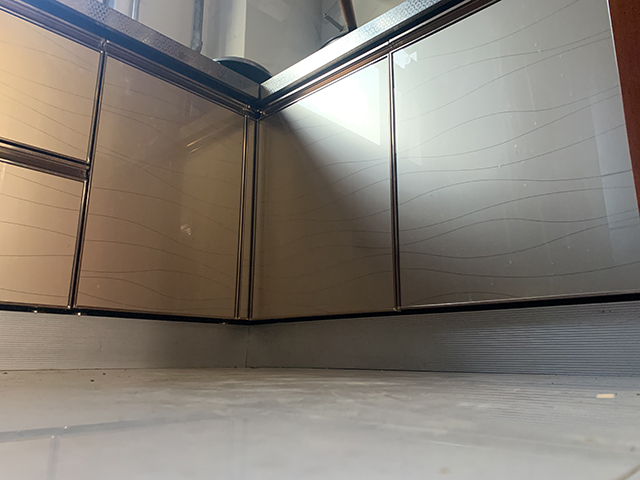cabinet: (248, 1, 640, 381), (1, 1, 247, 360)
